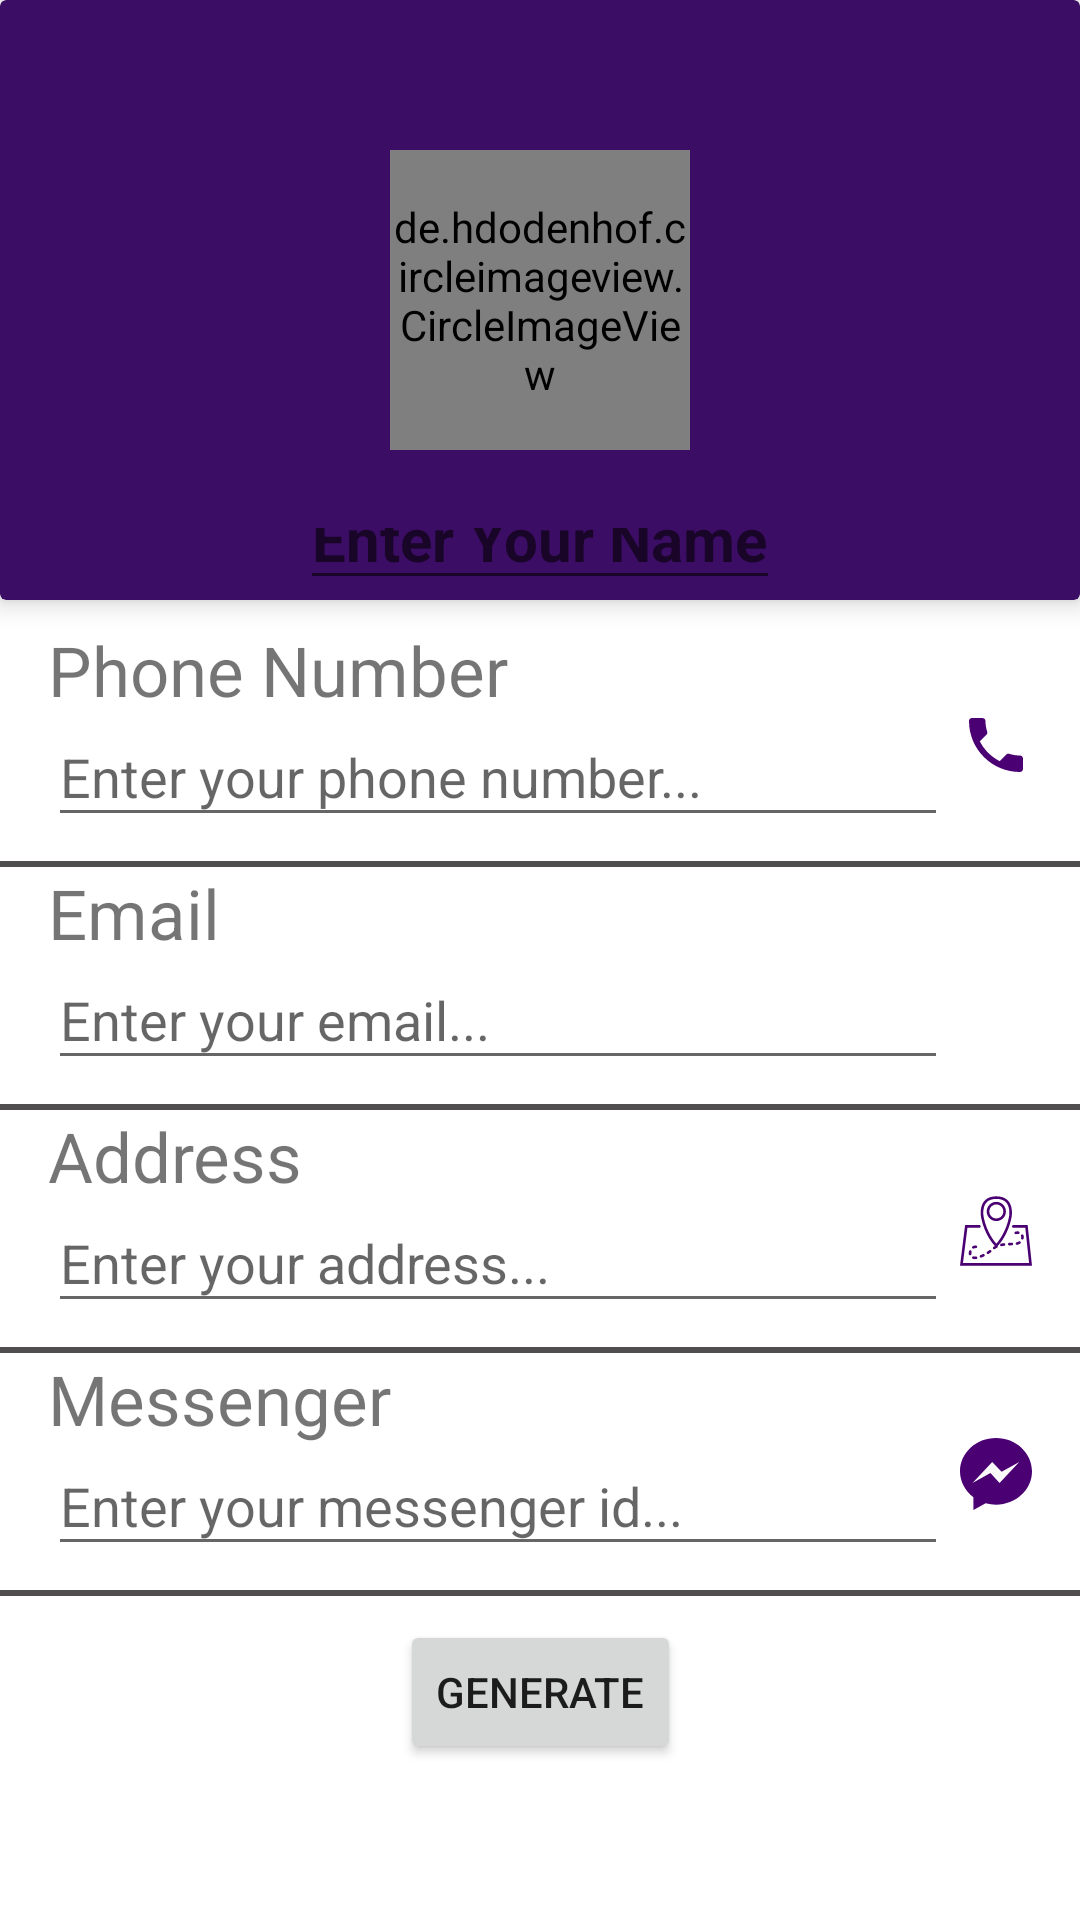

Icon bounding boxes for this 1080 × 1920 phone screenshot, format (x1, y1, x2, y2):
call: (969, 718, 1023, 772)
map location: (960, 1196, 1032, 1266)
